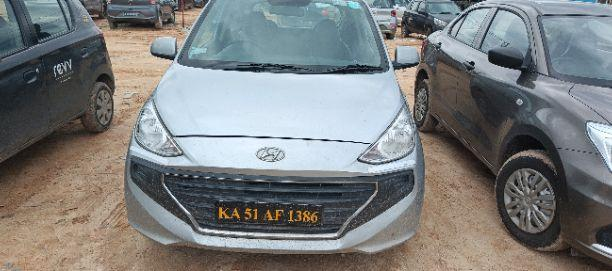license_plate: (214, 199, 324, 226)
